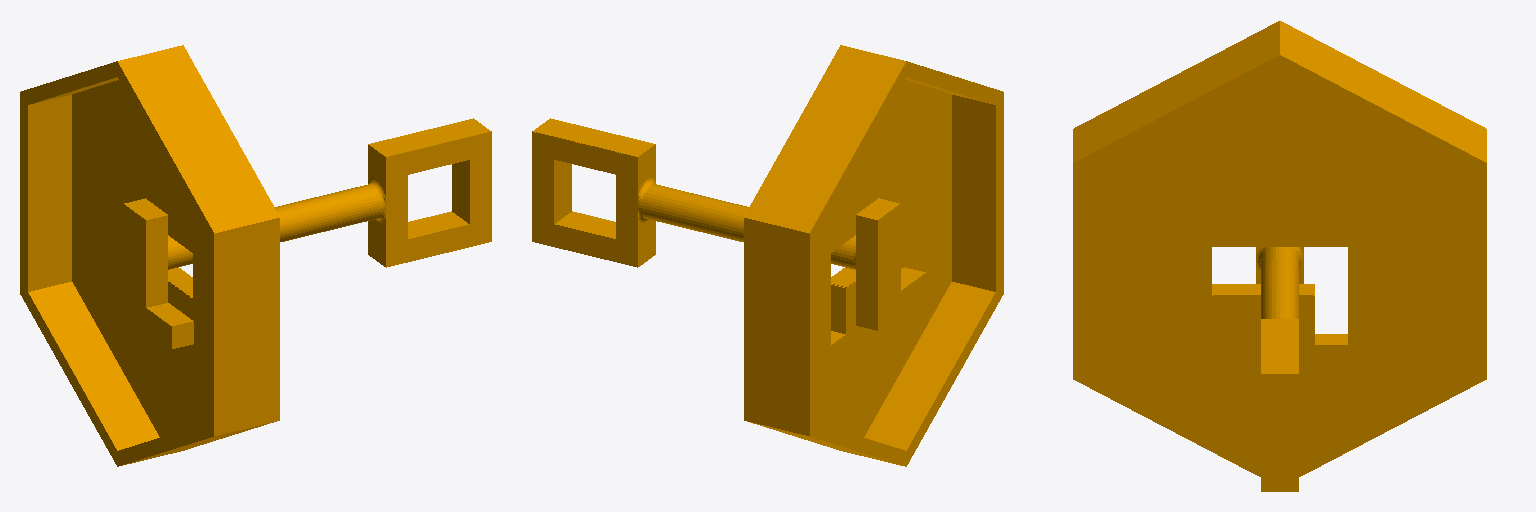
robot.urdf — Key_assembly:
<?xml version='1.0' encoding='utf-8'?>
<robot name="Key_assembly">
  <link name="Key_assembly">
    <inertial><origin xyz="0.000010 0.000039 0.000013" rpy="0 0 0" /><mass value="0.0050" /><inertia ixx="1e-06" ixy="0" ixz="0" iyy="1e-06" iyz="0" izz="1e-06" /></inertial><visual>
      <origin xyz="-0.005997 0.004981 -0.014136" rpy="0. 0. -1.5707964" />
      <geometry>
        <mesh filename="meshes/Key_pivot_Corpo1_Mesh.obj" scale="0.001000 0.001000 0.001000" />
      </geometry>
    </visual>
    <visual>
      <origin xyz="0.024253 0.000000 0.000000" rpy="0. 1.5707964 0. " />
      <geometry>
        <mesh filename="meshes/Cylinder.obj" scale="0.001000 0.001000 0.001000" />
      </geometry>
    </visual>
    <visual>
      <origin xyz="-0.003488 0.000000 -0.001649" rpy="0. 0. 0." />
      <geometry>
        <mesh filename="meshes/Key_pivot_Corpo1_simple_colliders_Cube.obj" scale="0.001000 0.001000 0.001000" />
      </geometry>
    </visual>
    <visual>
      <origin xyz="-0.003485 -0.009519 -0.011120" rpy="0. 0. 0." />
      <geometry>
        <mesh filename="meshes/Key_pivot_Corpo1_simple_colliders_Cube_01.obj" scale="0.001000 0.001000 0.001000" />
      </geometry>
    </visual>
    <visual>
      <origin xyz="0.051511 0.000000 -0.001081" rpy="0. 0. 0." />
      <geometry>
        <mesh filename="meshes/Key_pivot_Corpo1_simple_colliders_Cube_02.obj" scale="0.001000 0.001000 0.001000" />
      </geometry>
    </visual>
    <visual>
      <origin xyz="0.070482 0.000000 -0.001081" rpy="0. 0. 0." />
      <geometry>
        <mesh filename="meshes/Key_pivot_Corpo1_simple_colliders_Cube_03.obj" scale="0.001000 0.001000 0.001000" />
      </geometry>
    </visual>
    <visual>
      <origin xyz="0.061007 0.000000 0.008393" rpy="0. -1.5707964 0. " />
      <geometry>
        <mesh filename="meshes/Key_pivot_Corpo1_simple_colliders_Cube_04.obj" scale="0.001000 0.001000 0.001000" />
      </geometry>
    </visual>
    <visual>
      <origin xyz="0.061007 0.000000 -0.010635" rpy="0. -1.5707964 0. " />
      <geometry>
        <mesh filename="meshes/Cube_05.obj" scale="0.001000 0.001000 0.001000" />
      </geometry>
    </visual>
    <visual>
      <origin xyz="0.005037 0.000000 0.000000" rpy="0. -1.5707964 0. " />
      <geometry>
        <mesh filename="meshes/Key_Base_pivot_Corpo1_Mesh.obj" scale="0.001000 0.001000 0.001000" />
      </geometry>
    </visual>
    <visual>
      <origin xyz="0.002561 -0.025334 -0.000107" rpy="0. 0. 0." />
      <geometry>
        <mesh filename="meshes/Key_Base_pivot_Corpo1_simple_colliders_Cube.obj" scale="0.001000 0.001000 0.001000" />
      </geometry>
    </visual>
    <visual>
      <origin xyz="0.002561 0.025258 -0.000107" rpy="0. 0. 0." />
      <geometry>
        <mesh filename="meshes/Key_Base_pivot_Corpo1_simple_colliders_Cube_01.obj" scale="0.001000 0.001000 0.001000" />
      </geometry>
    </visual>
    <visual>
      <origin xyz="0.002561 -0.000066 0.020827" rpy="0. 0. 0." />
      <geometry>
        <mesh filename="meshes/Key_Base_pivot_Corpo1_simple_colliders_Cube_02.obj" scale="0.001000 0.001000 0.001000" />
      </geometry>
    </visual>
    <visual>
      <origin xyz="0.002561 -0.000066 -0.025852" rpy="0. 0. 0." />
      <geometry>
        <mesh filename="meshes/Key_Base_pivot_Corpo1_simple_colliders_Cube_03.obj" scale="0.001000 0.001000 0.001000" />
      </geometry>
    </visual>
    <visual>
      <origin xyz="0.002561 -0.003110 -0.015502" rpy="0. 0. 0." />
      <geometry>
        <mesh filename="meshes/Key_Base_pivot_Corpo1_simple_colliders_Cube_04.obj" scale="0.001000 0.001000 0.001000" />
      </geometry>
    </visual>
    <collision>
      <origin xyz="0.024253 0.000000 0.000000" rpy="0. 1.5707964 0. " />
      <geometry>
        <mesh filename="meshes/Cylinder.obj" scale="0.001000 0.001000 0.001000" />
      </geometry>
    </collision>
    <collision>
      <origin xyz="-0.003488 0.000000 -0.001649" rpy="0. 0. 0." />
      <geometry>
        <mesh filename="meshes/Key_pivot_Corpo1_simple_colliders_Cube.obj" scale="0.001000 0.001000 0.001000" />
      </geometry>
    </collision>
    <collision>
      <origin xyz="-0.003485 -0.009519 -0.011120" rpy="0. 0. 0." />
      <geometry>
        <mesh filename="meshes/Key_pivot_Corpo1_simple_colliders_Cube_01.obj" scale="0.001000 0.001000 0.001000" />
      </geometry>
    </collision>
    <collision>
      <origin xyz="0.051511 0.000000 -0.001081" rpy="0. 0. 0." />
      <geometry>
        <mesh filename="meshes/Key_pivot_Corpo1_simple_colliders_Cube_02.obj" scale="0.001000 0.001000 0.001000" />
      </geometry>
    </collision>
    <collision>
      <origin xyz="0.070482 0.000000 -0.001081" rpy="0. 0. 0." />
      <geometry>
        <mesh filename="meshes/Key_pivot_Corpo1_simple_colliders_Cube_03.obj" scale="0.001000 0.001000 0.001000" />
      </geometry>
    </collision>
    <collision>
      <origin xyz="0.061007 0.000000 0.008393" rpy="0. -1.5707964 0. " />
      <geometry>
        <mesh filename="meshes/Key_pivot_Corpo1_simple_colliders_Cube_04.obj" scale="0.001000 0.001000 0.001000" />
      </geometry>
    </collision>
    <collision>
      <origin xyz="0.061007 0.000000 -0.010635" rpy="0. -1.5707964 0. " />
      <geometry>
        <mesh filename="meshes/Cube_05.obj" scale="0.001000 0.001000 0.001000" />
      </geometry>
    </collision>
    <collision>
      <origin xyz="0.002561 -0.025334 -0.000107" rpy="0. 0. 0." />
      <geometry>
        <mesh filename="meshes/Key_Base_pivot_Corpo1_simple_colliders_Cube.obj" scale="0.001000 0.001000 0.001000" />
      </geometry>
    </collision>
    <collision>
      <origin xyz="0.002561 0.025258 -0.000107" rpy="0. 0. 0." />
      <geometry>
        <mesh filename="meshes/Key_Base_pivot_Corpo1_simple_colliders_Cube_01.obj" scale="0.001000 0.001000 0.001000" />
      </geometry>
    </collision>
    <collision>
      <origin xyz="0.002561 -0.000066 0.020827" rpy="0. 0. 0." />
      <geometry>
        <mesh filename="meshes/Key_Base_pivot_Corpo1_simple_colliders_Cube_02.obj" scale="0.001000 0.001000 0.001000" />
      </geometry>
    </collision>
    <collision>
      <origin xyz="0.002561 -0.000066 -0.025852" rpy="0. 0. 0." />
      <geometry>
        <mesh filename="meshes/Key_Base_pivot_Corpo1_simple_colliders_Cube_03.obj" scale="0.001000 0.001000 0.001000" />
      </geometry>
    </collision>
    <collision>
      <origin xyz="0.002561 -0.003110 -0.015502" rpy="0. 0. 0." />
      <geometry>
        <mesh filename="meshes/Key_Base_pivot_Corpo1_simple_colliders_Cube_04.obj" scale="0.001000 0.001000 0.001000" />
      </geometry>
    </collision>
  </link>
</robot>

--- What the picture shows (computed from the rendered views, not written in the file) ---
The picture shows the robot from 3 angles, left to right: view 1: azimuth 30°, elevation 25°; view 2: azimuth 150°, elevation 25°; view 3: azimuth 270°, elevation 25°; orthographic projection.
Robot: Key_assembly — 1 links, 0 joints (none); root link Key_assembly; default pose: all joints at 0.
Visible links, largest first — view 1: Key_assembly; view 2: Key_assembly; view 3: Key_assembly.
Boxes of the visible links, <box> form: Key_assembly: <box>20,45,491,466</box>; Key_assembly: <box>532,45,1003,466</box>; Key_assembly: <box>1073,21,1486,491</box>.
Bounding box of the posed robot: 0.083 × 0.0763 × 0.0881 m (x, y, z).
Meshes: 14 distinct files referenced, 10 mesh visuals loaded (10 OBJ); not drawn: 4 (reference not matched to a file when rendering).
